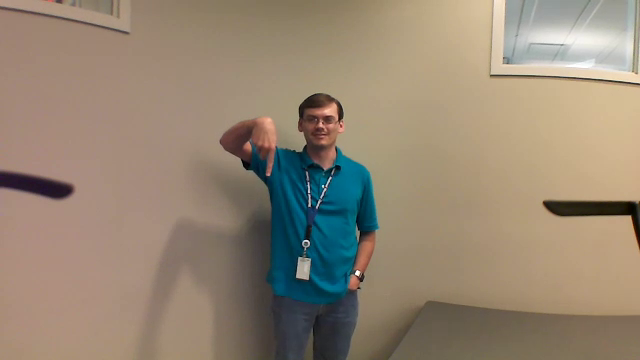down: (248, 110, 280, 185)
